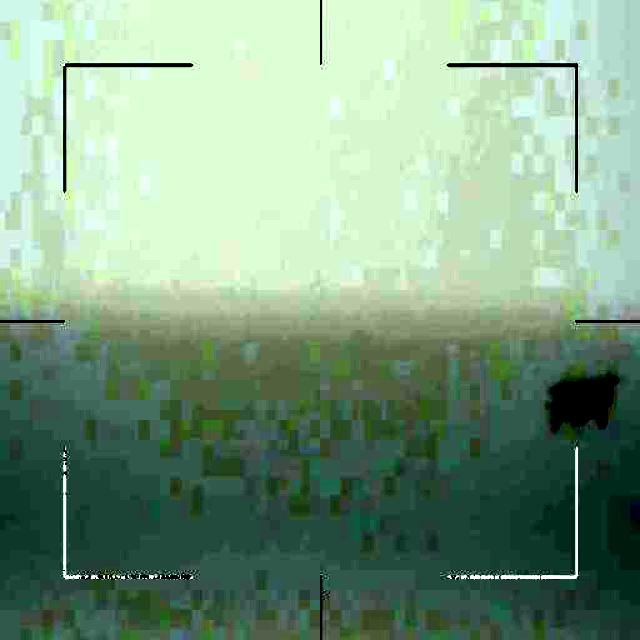bird: (545, 379, 609, 428)
